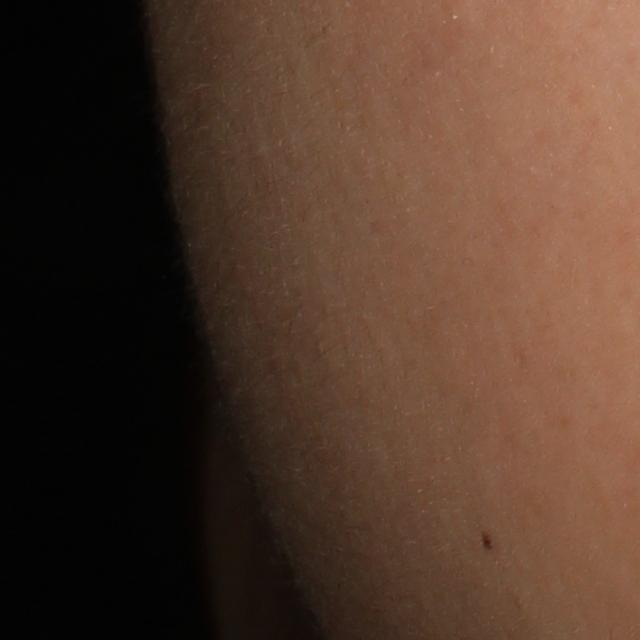nevus: (480, 529, 496, 552)
